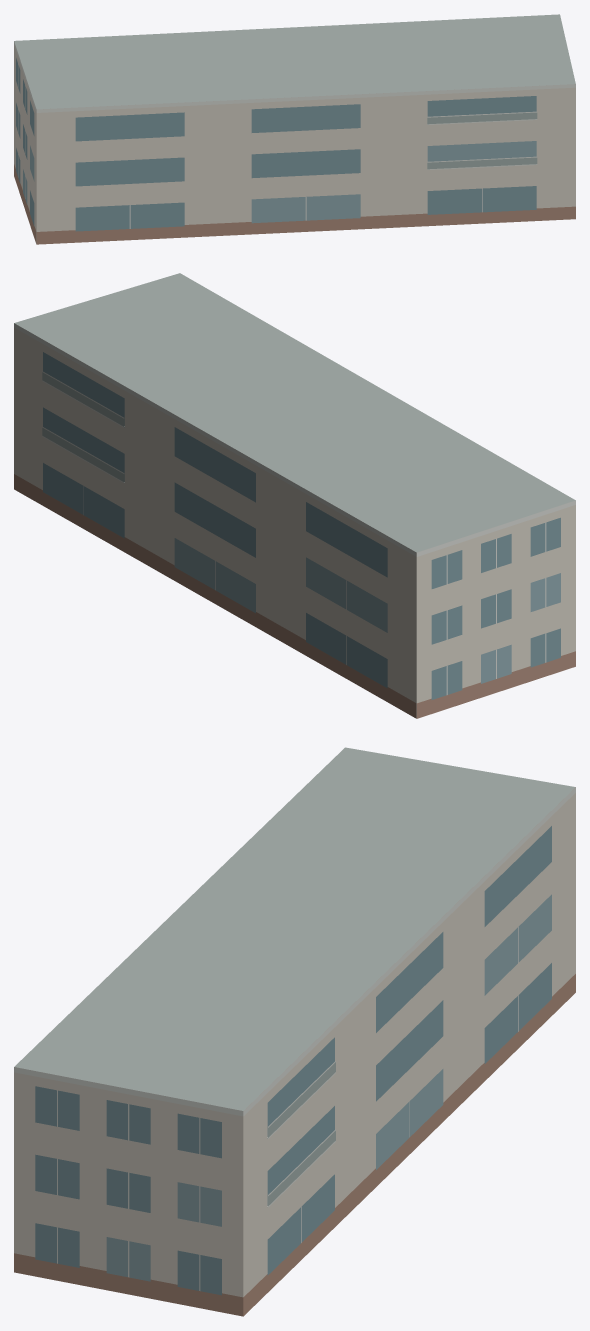
Rendered from survey-upis-32658808.glb.
3 views of the same model, one above another, from view 1: azimuth 30°, elevation 25°; view 2: azimuth 150°, elevation 25°; view 3: azimuth 270°, elevation 25° (orthographic). The views are drawn at different scales.
Parts seen in each view (by area): view 1: survey-upis-32658808.tmp; view 2: survey-upis-32658808.tmp; view 3: survey-upis-32658808.tmp.
Boxes of the visible parts, x1=… form: survey-upis-32658808.tmp: x1=14, y1=14, x2=575, y2=244; survey-upis-32658808.tmp: x1=14, y1=273, x2=575, y2=718; survey-upis-32658808.tmp: x1=14, y1=747, x2=575, y2=1316.
Size of the model in its own units: 34.74 by 9.15 by 22.68.
